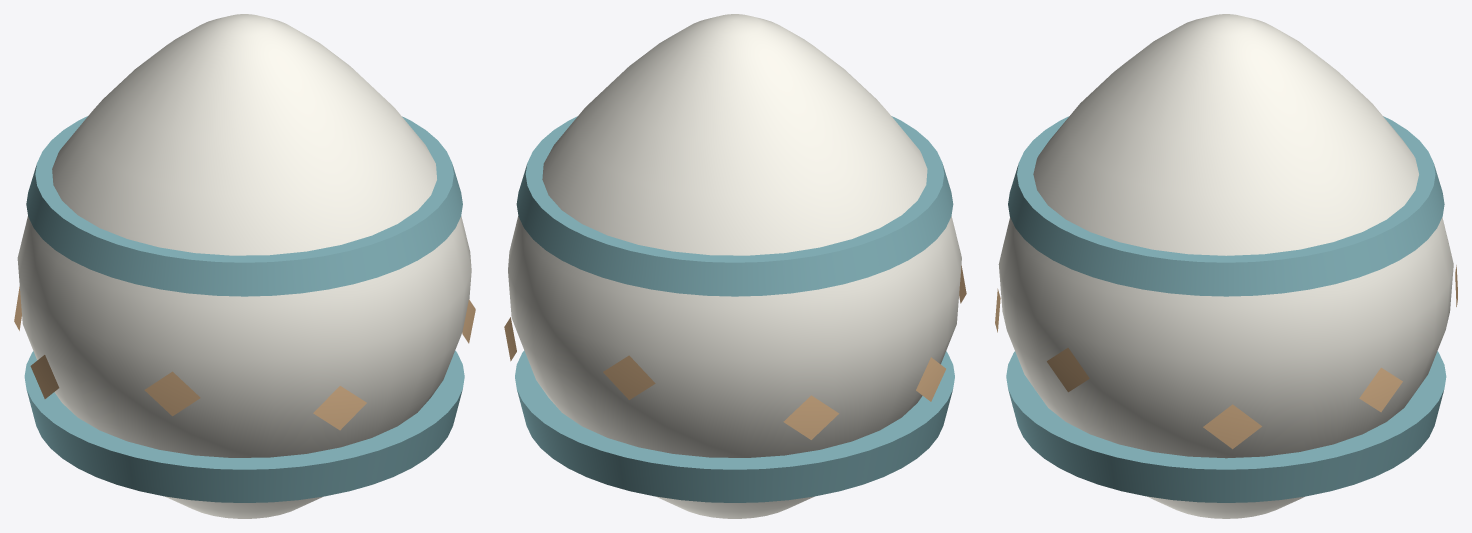
Rendered from egg-stage-0.glb.
3 renders of one model, left to right at view 1: azimuth 30°, elevation 25°; view 2: azimuth 150°, elevation 25°; view 3: azimuth 270°, elevation 25°, orthographic.
Visible parts, largest first — view 1: egg_stage_0; view 2: egg_stage_0; view 3: egg_stage_0.
Part boxes in pixels (x1,y1,x2,y2): egg_stage_0: [14, 14, 475, 518]; egg_stage_0: [504, 14, 966, 518]; egg_stage_0: [995, 14, 1457, 518].
Bounding box in the file's own units: 1.11 × 1.3 × 1.12.
